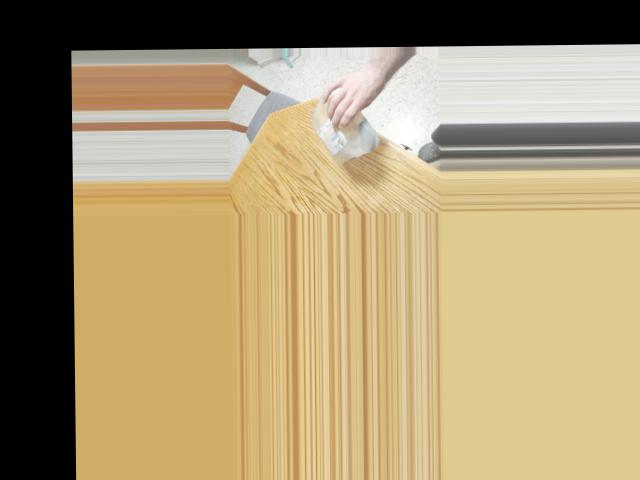cheese: (308, 82, 374, 161)
